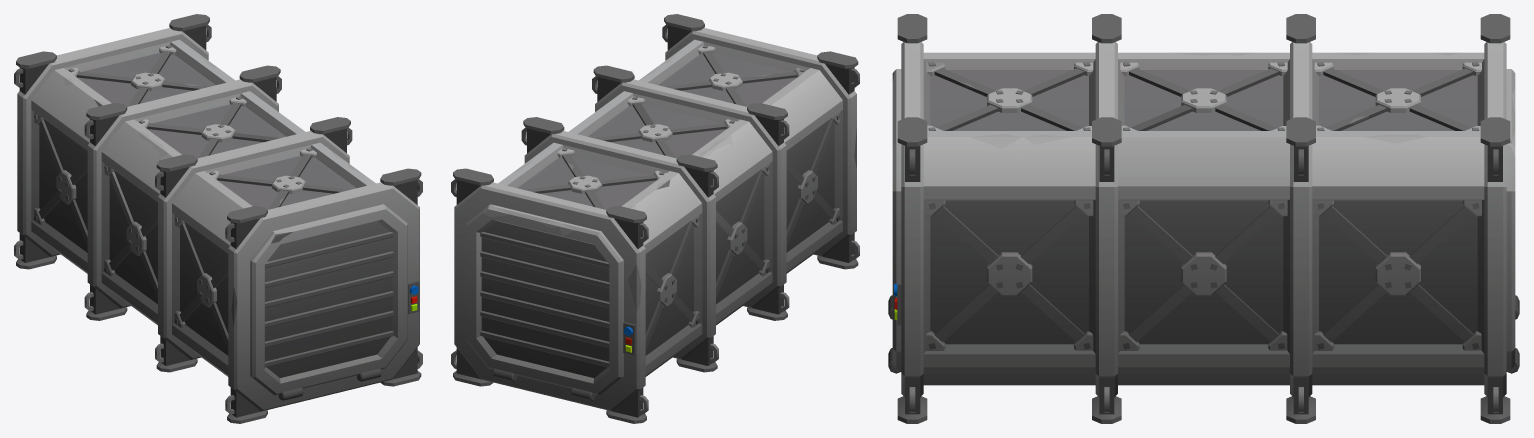
File: l_cargo.fbx
3 views of the same model, side by side, from view 1: azimuth 30°, elevation 25°; view 2: azimuth 150°, elevation 25°; view 3: azimuth 270°, elevation 25° (orthographic). The views are drawn at different scales.
Visible parts, largest first — view 1: l_cargo; view 2: l_cargo; view 3: l_cargo.
Part boxes in pixels (x1,y1,x2,y2): l_cargo: [14, 14, 422, 423]; l_cargo: [451, 14, 859, 423]; l_cargo: [888, 14, 1519, 423].
Bounding box in the file's own units: 199 × 198 × 402.
